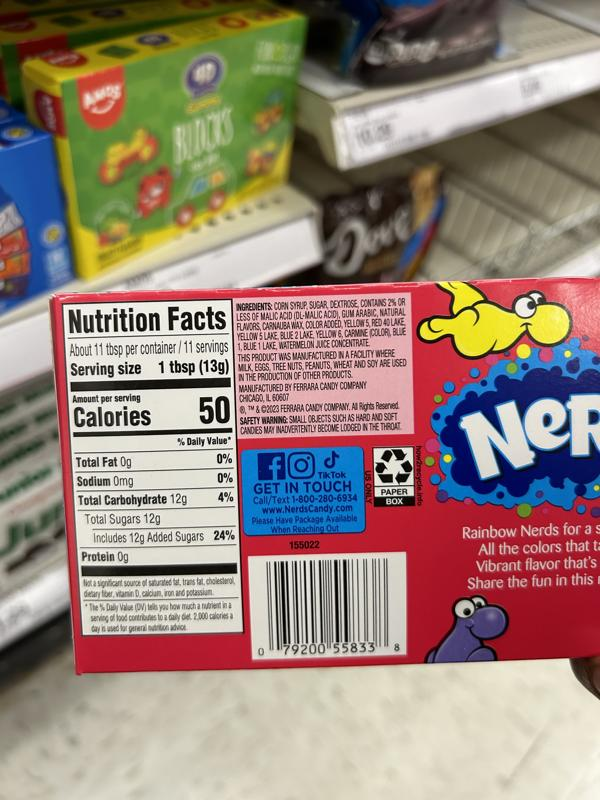ingredients: (235, 297, 409, 352)
